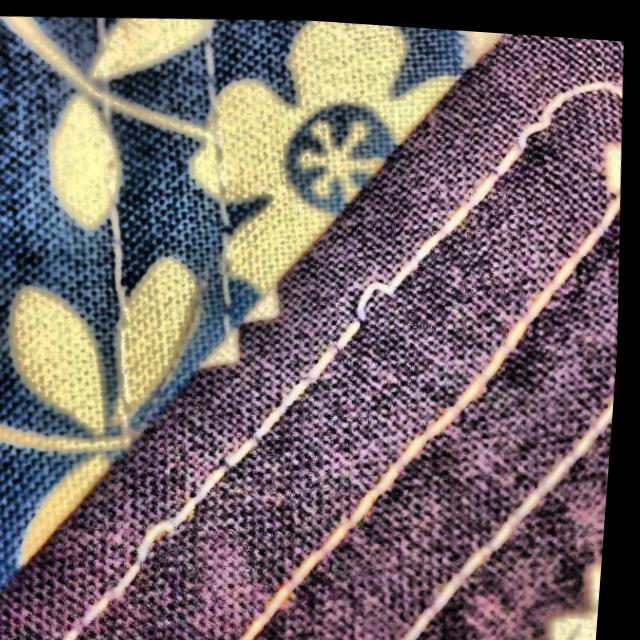Stitch: (107, 461, 226, 600), (315, 252, 426, 359)
